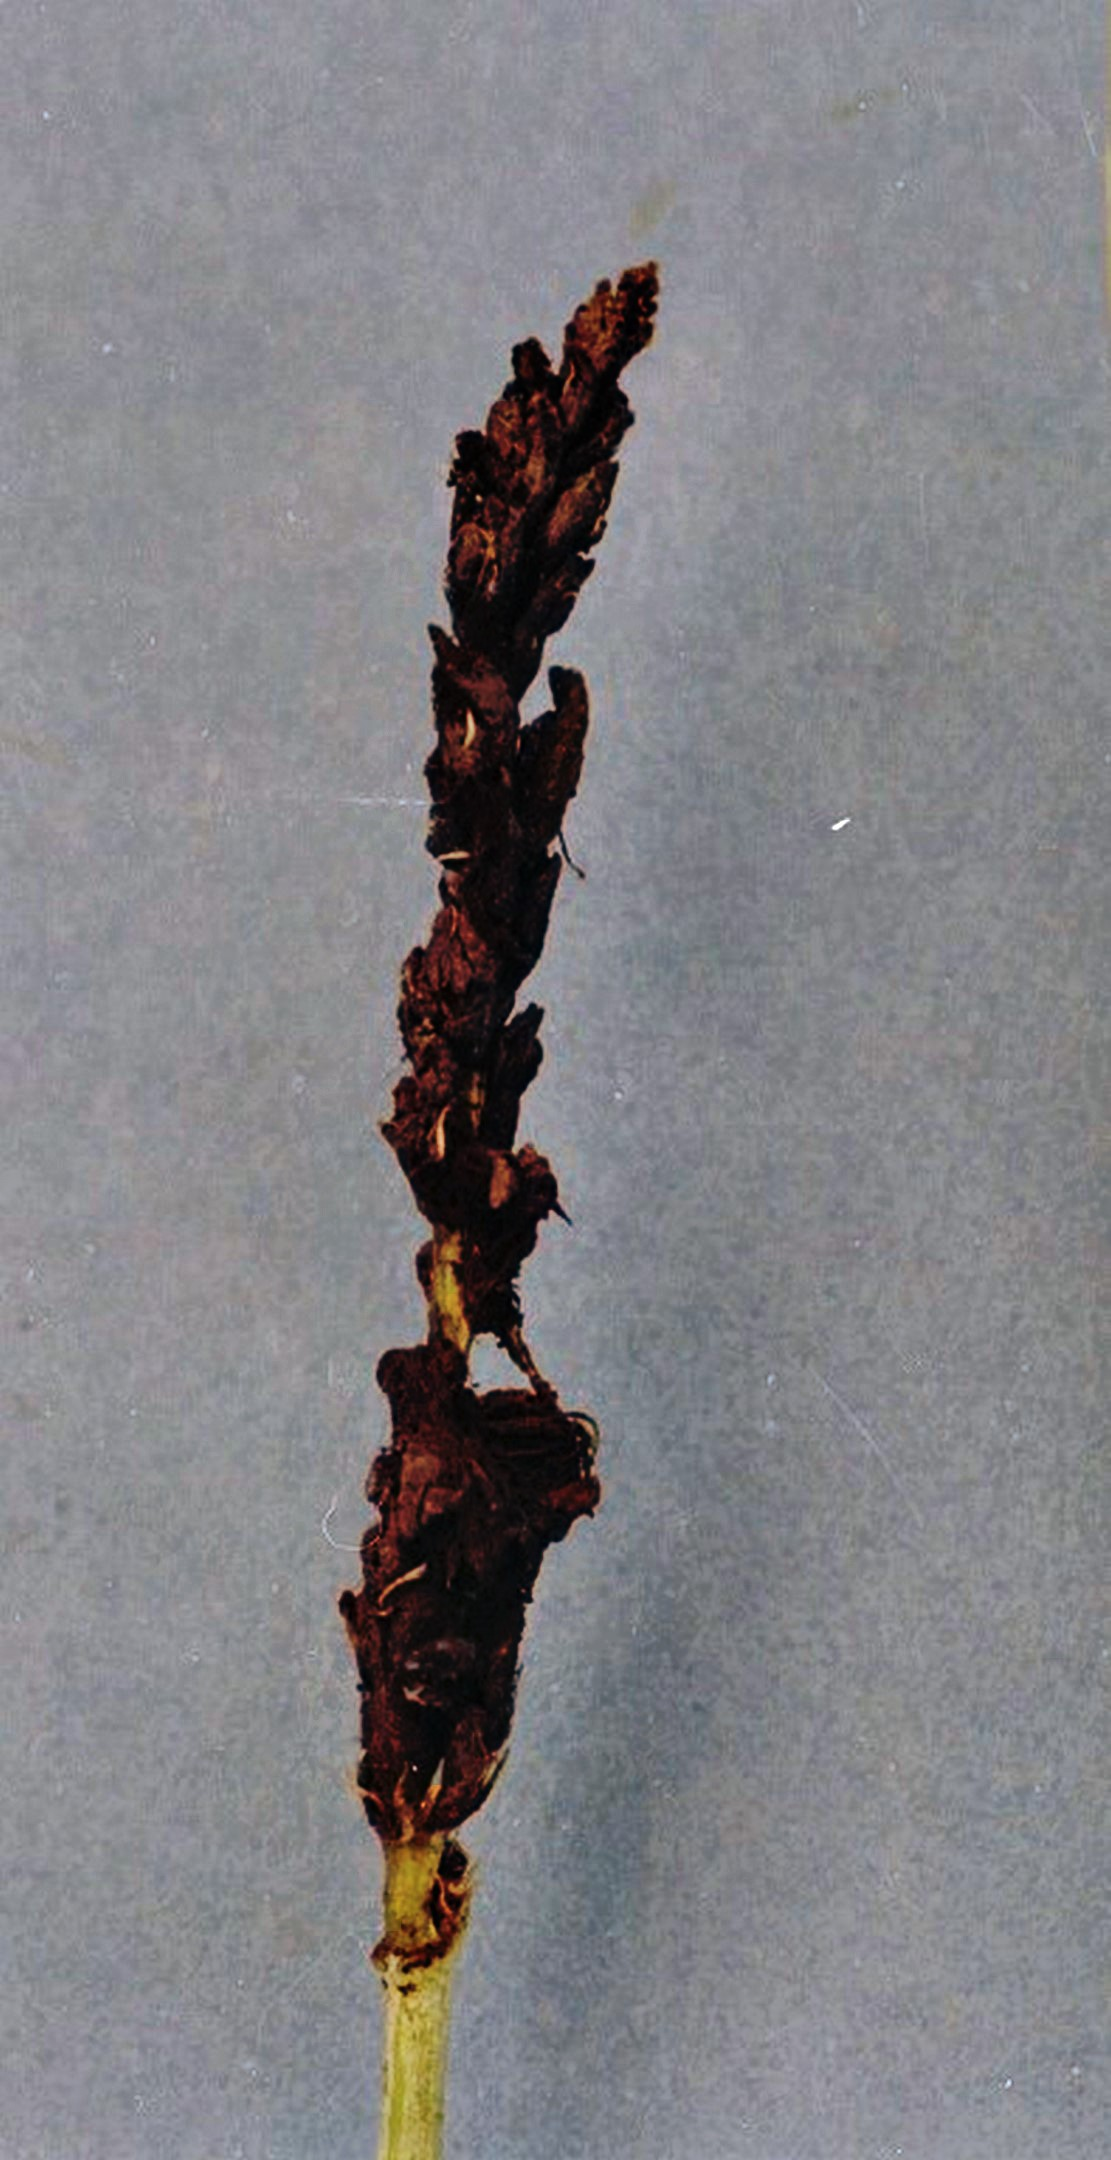Wheat Loose Smut: (213, 245, 699, 1858)
